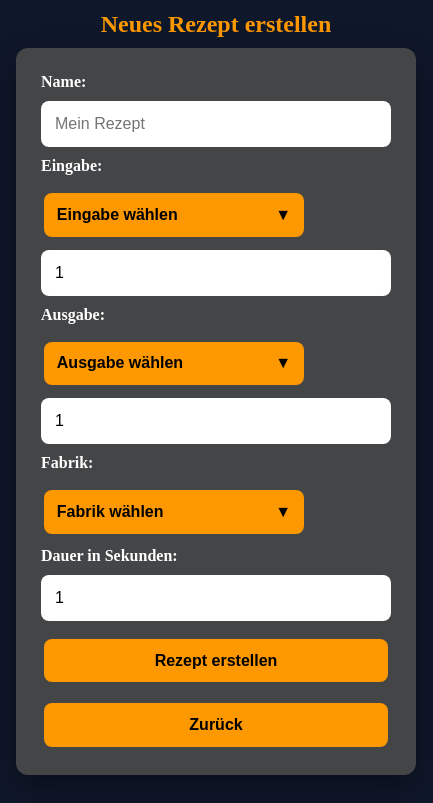
Test: Custom Recipe Editor › shows validation errors when required fields are empty
What coordinates should you click on to do the following:
click the button "Rezept erstellen"
I would click on:
 (216, 661)
Its box is [44, 639, 388, 682].
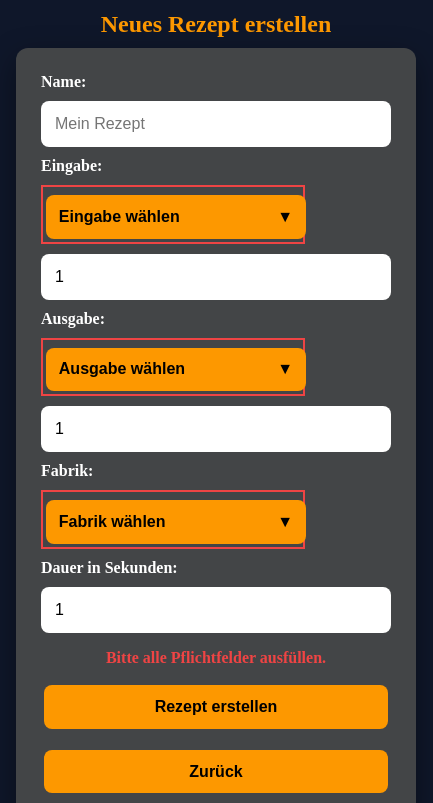
expect the text "Bitte alle Pflichtfelder ausfüllen." is shown: met, box [106, 649, 326, 666]
